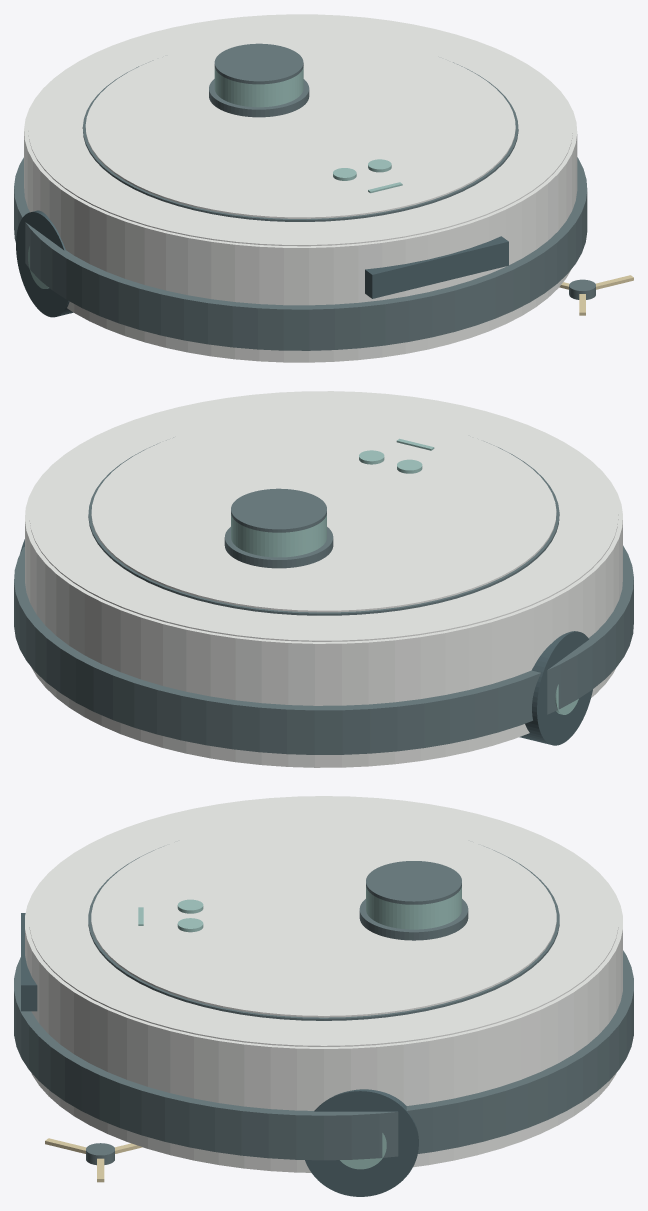
The picture shows the model from 3 angles, top to bottom: view 1: azimuth 30°, elevation 25°; view 2: azimuth 150°, elevation 25°; view 3: azimuth 270°, elevation 25°; orthographic projection. The views are drawn at different scales.
Parts seen in each view (by area): view 1: Removable dust-bin lid, Low-profile circular body, Upper shell, Wraparound protective bumper, Front obstacle sensor window, Lidar cap, Left drive wheel, Dust-bin lid seam, Lidar sensor turret, Lidar turret surround; view 2: Removable dust-bin lid, Low-profile circular body, Upper shell, Wraparound protective bumper, Lidar cap, Left drive wheel, Dust-bin lid seam, Lidar sensor turret, Lidar turret surround; view 3: Removable dust-bin lid, Low-profile circular body, Upper shell, Wraparound protective bumper, Right drive wheel, Lidar cap, Dust-bin lid seam, Lidar sensor turret, Lidar turret surround, Front obstacle sensor window.
Boxes of the visible parts, bbox=[...] form: Removable dust-bin lid: bbox=[85, 35, 515, 218]; Low-profile circular body: bbox=[24, 14, 577, 362]; Upper shell: bbox=[28, 15, 572, 246]; Wraparound protective bumper: bbox=[14, 157, 587, 350]; Front obstacle sensor window: bbox=[365, 236, 508, 298]; Lidar cap: bbox=[214, 43, 303, 84]; Left drive wheel: bbox=[16, 210, 73, 317]; Dust-bin lid seam: bbox=[82, 60, 518, 221]; Lidar sensor turret: bbox=[214, 66, 303, 107]; Lidar turret surround: bbox=[209, 79, 309, 117]; Removable dust-bin lid: bbox=[91, 414, 556, 612]; Low-profile circular body: bbox=[25, 391, 622, 767]; Upper shell: bbox=[29, 392, 618, 641]; Wraparound protective bumper: bbox=[14, 545, 633, 754]; Lidar cap: bbox=[231, 488, 326, 532]; Left drive wheel: bbox=[519, 631, 592, 745]; Dust-bin lid seam: bbox=[88, 437, 559, 615]; Lidar sensor turret: bbox=[231, 514, 326, 557]; Lidar turret surround: bbox=[224, 527, 333, 568]; Removable dust-bin lid: bbox=[91, 819, 556, 1017]; Low-profile circular body: bbox=[25, 796, 622, 1172]; Upper shell: bbox=[29, 796, 618, 1046]; Wraparound protective bumper: bbox=[14, 950, 633, 1160]; Right drive wheel: bbox=[305, 1089, 418, 1196]; Lidar cap: bbox=[366, 861, 461, 904]; Dust-bin lid seam: bbox=[88, 846, 559, 1020]; Lidar sensor turret: bbox=[366, 886, 461, 929]; Lidar turret surround: bbox=[359, 899, 468, 940]; Front obstacle sensor window: bbox=[21, 913, 37, 1011].
Size of the model in its own units: 0.34 by 0.114 by 0.3397.
